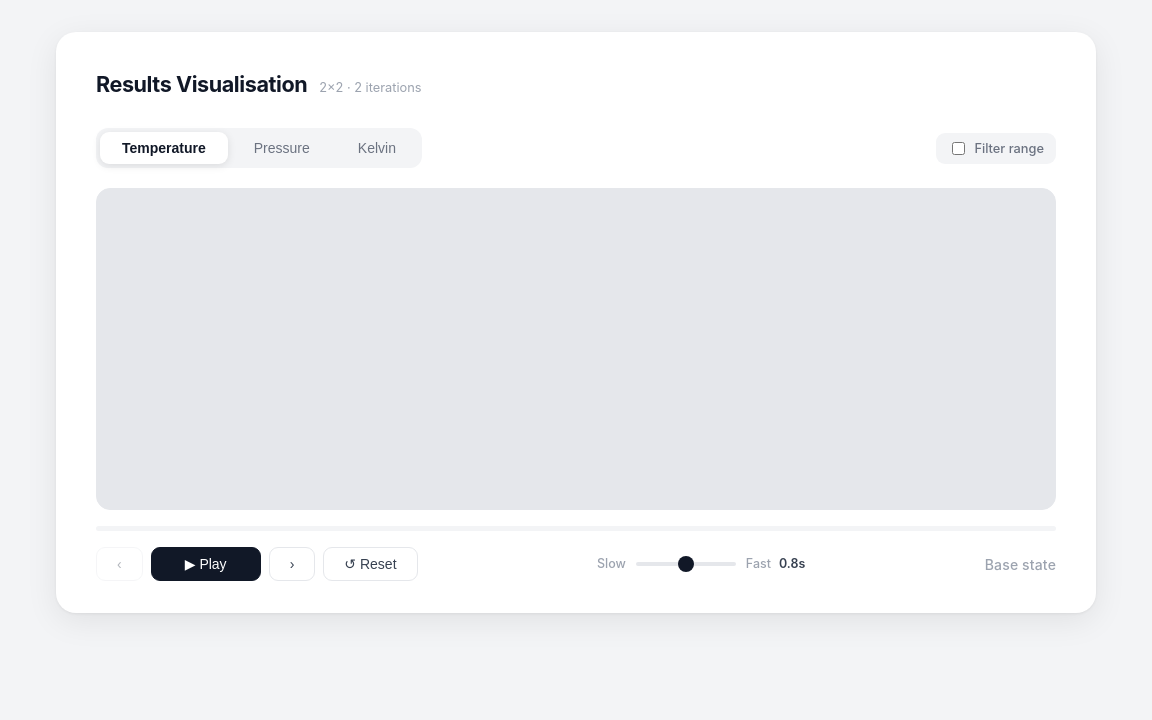
Test: ResultsVisualization — loaded state › switching metric resets filter to disabled
This screenshot has width=1152, height=720.
Click the checkbox at [959, 148], box x1=952 y1=142 x2=965 y2=155
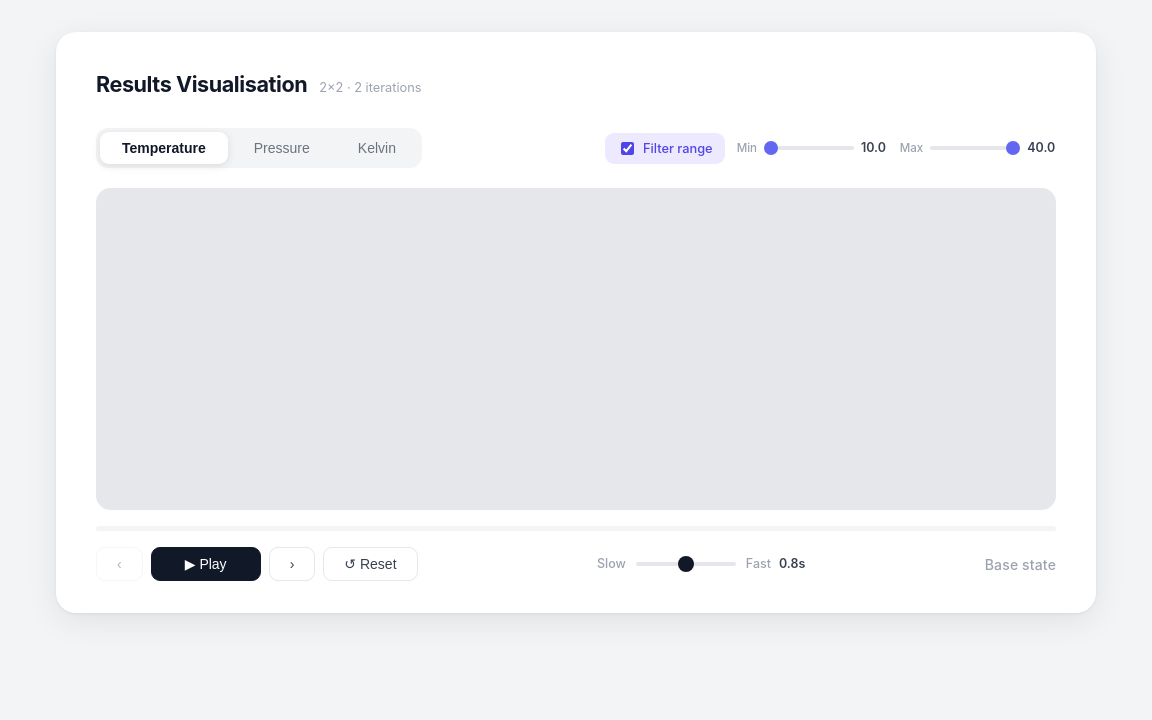
Result: the checkbox is checked at x1=621 y1=142 x2=634 y2=155
Click the tab "Pressure" at [282, 148], box x1=232 y1=132 x2=332 y2=164
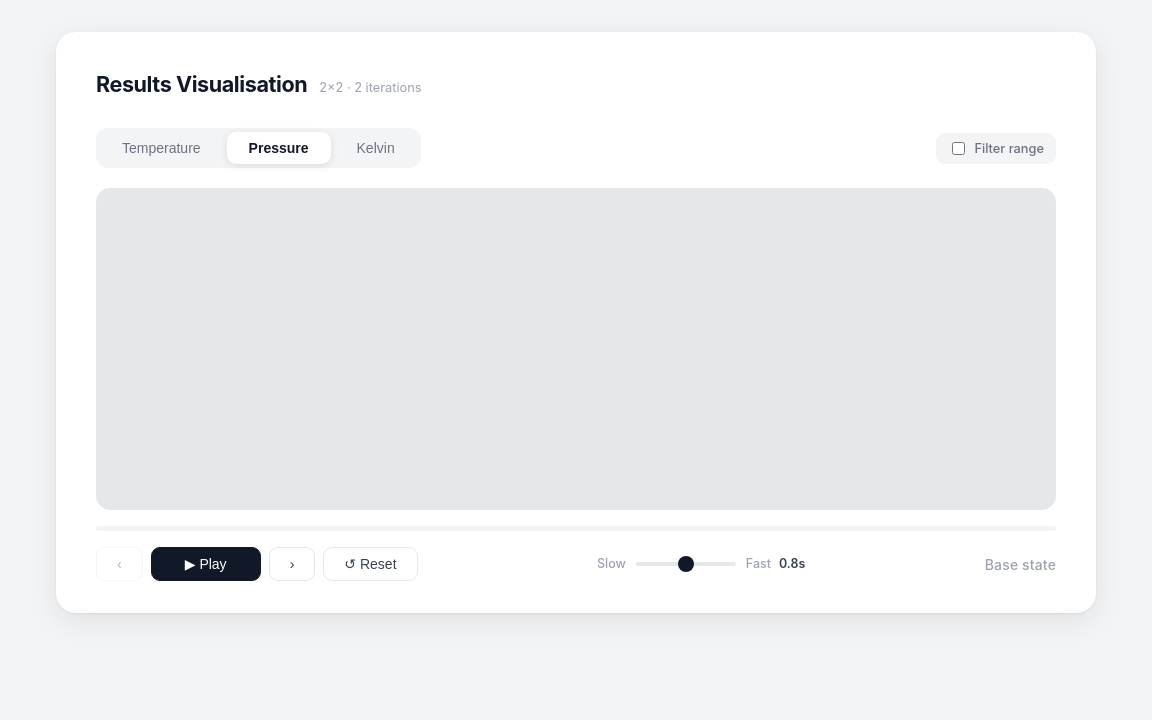
Result: the checkbox is not checked at x1=952 y1=142 x2=965 y2=155
